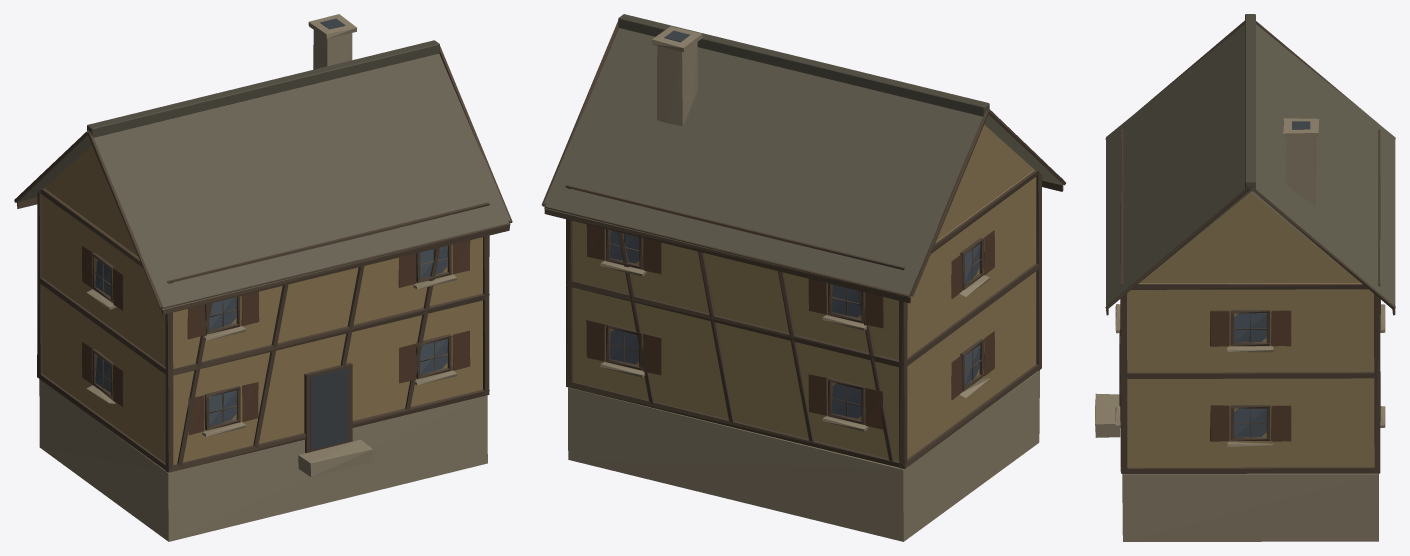
The model's file is house-large-lod1.glb.
3 views of the same model, side by side, from view 1: azimuth 30°, elevation 25°; view 2: azimuth 150°, elevation 25°; view 3: azimuth 270°, elevation 25° (orthographic). The views are drawn at different scales.
Size of the model in its own units: 11.14 by 11.78 by 8.32.
